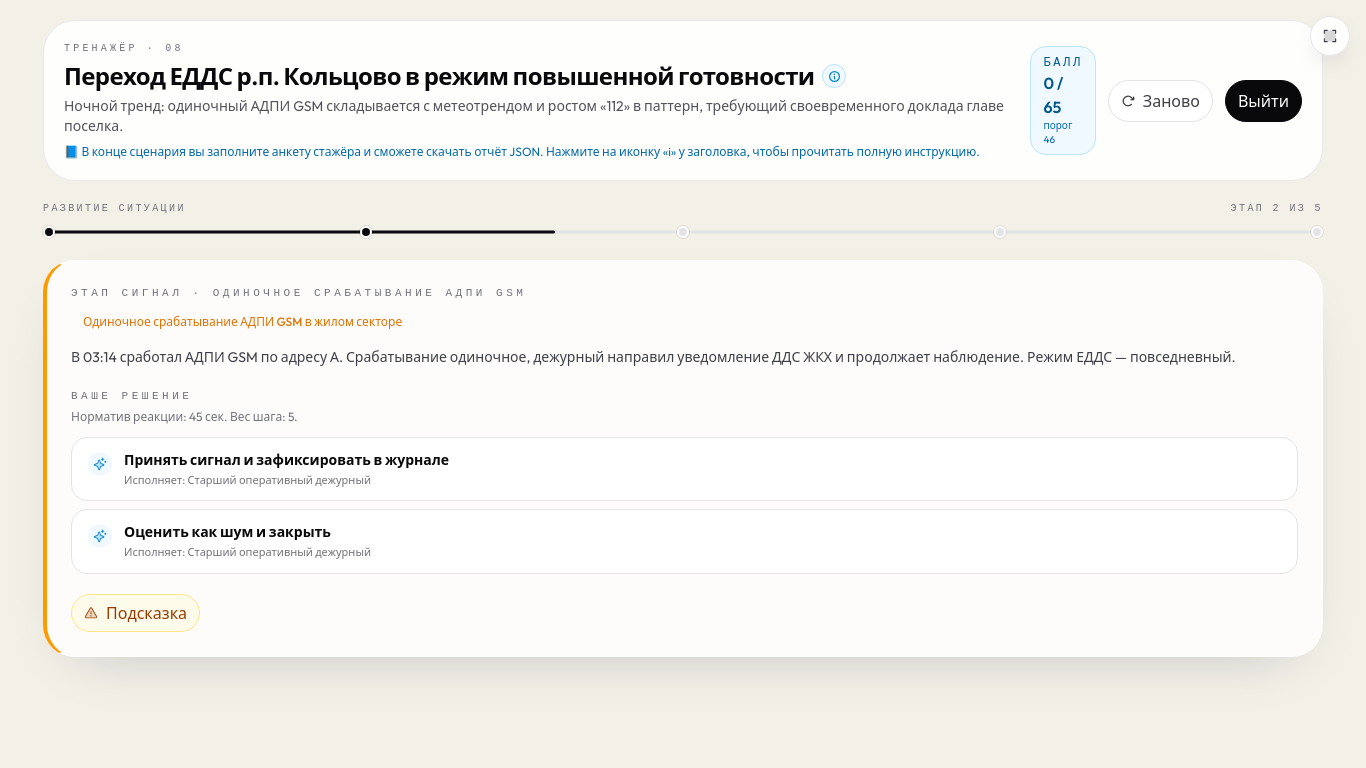
Trainer route (Phase 4.d) › awards the full weight when user picks the expected action
Step 1 (edds-1) expects acknowledge-signal, weight 5
Click the button with test id "trainer-action-acknowledge-signal" at (287, 460), box [71,437,1298,501]
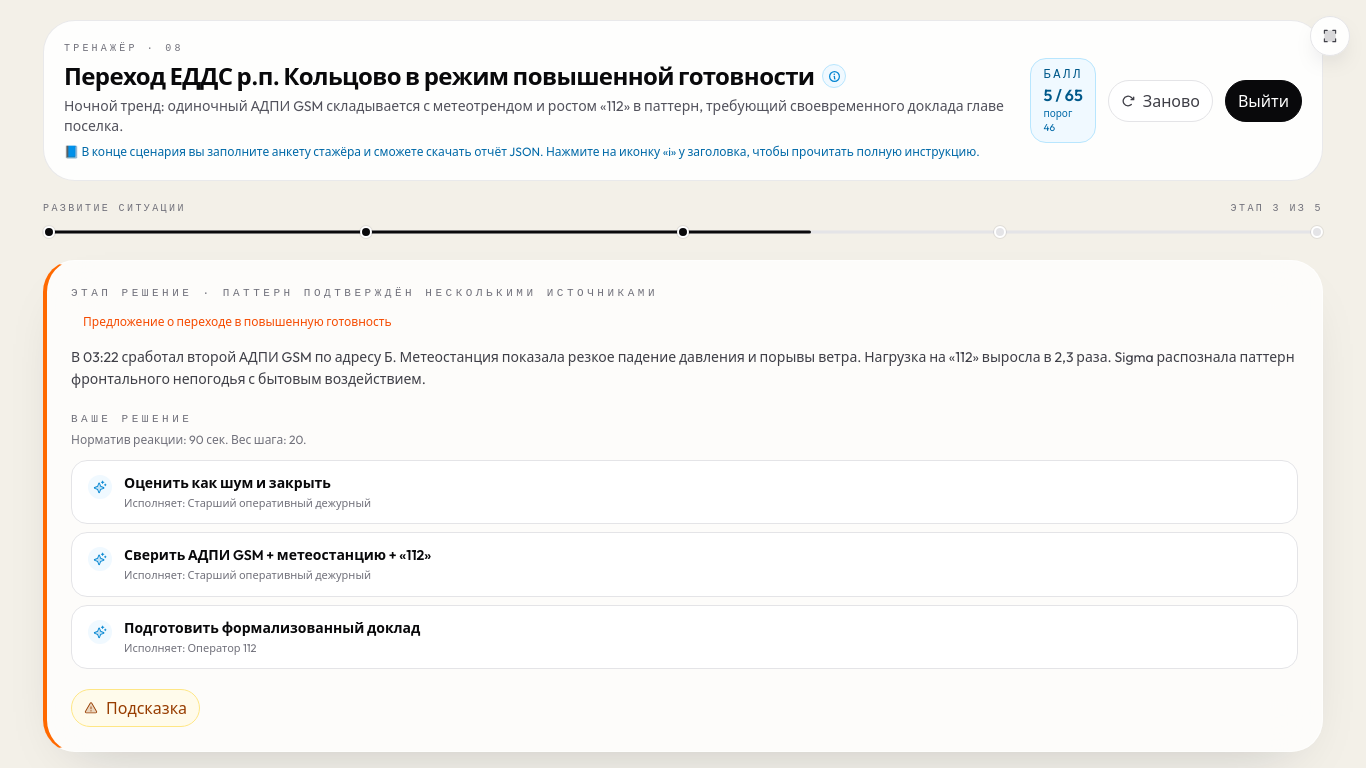
Expected: the button with test id "trainer-action-cross-check-sources" is shown, [71,532,1298,596]
Expected: the button with test id "trainer-action-prepare-escalation-draft" is shown, [71,604,1298,669]
